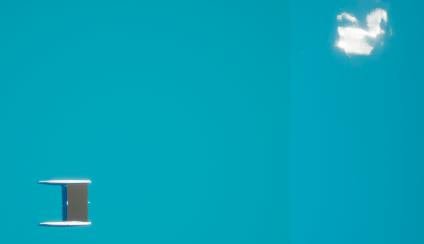boat: (36, 175, 96, 232)
drone: (67, 185, 87, 221)
land_base: (331, 6, 397, 65)
